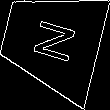N_W: (25, 15, 78, 67)
